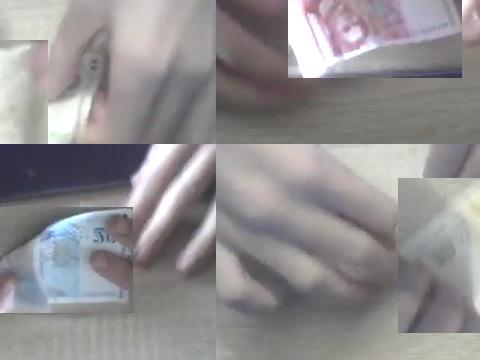10leva: (398, 178, 480, 318), (0, 40, 48, 144)
20leva: (0, 207, 133, 313)
5leva: (288, 0, 462, 78)
